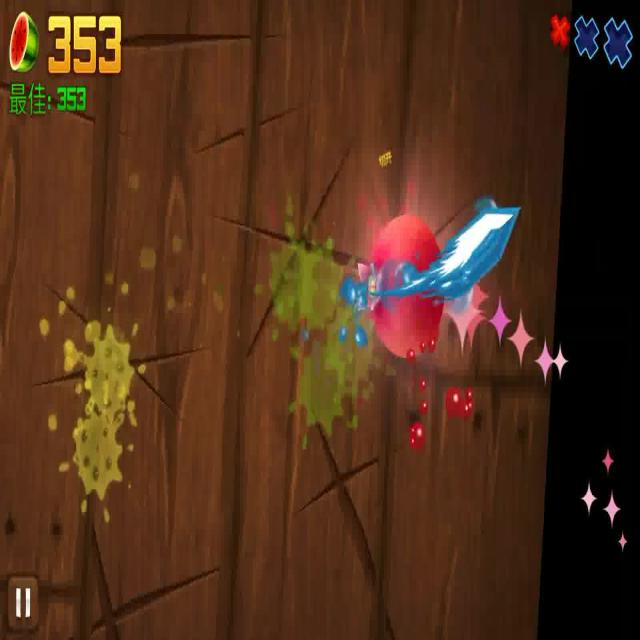fruit: (370, 215, 444, 354)
